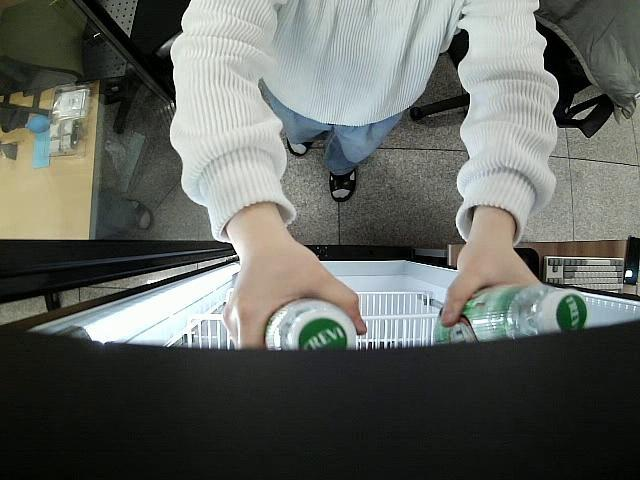18_trevi: (430, 280, 589, 344), (262, 295, 360, 347)
